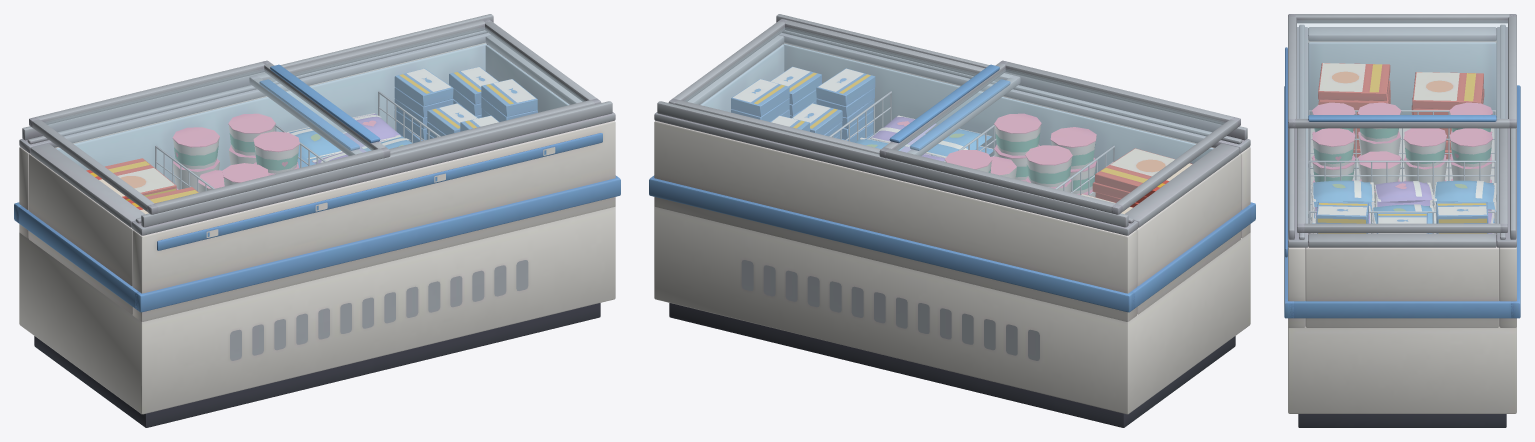
The model's file is g3-freezer-chest.glb.
The picture shows the model from 3 angles, left to right: view 1: azimuth 30°, elevation 25°; view 2: azimuth 150°, elevation 25°; view 3: azimuth 270°, elevation 25°; orthographic projection. The views are drawn at different scales.
Parts seen in each view (by area): view 1: freezer-chest_body, freezer-chest_lid_l_glass, freezer-chest_lid_r_glass, freezer-chest_lid_l, freezer-chest_lid_r; view 2: freezer-chest_body, freezer-chest_lid_l_glass, freezer-chest_lid_r_glass, freezer-chest_lid_l, freezer-chest_lid_r; view 3: freezer-chest_body, freezer-chest_lid_l_glass, freezer-chest_lid_r_glass, freezer-chest_lid_l, freezer-chest_lid_r.
Part boxes in pixels (bbox=[...]): freezer-chest_body: bbox=[14, 14, 620, 427]; freezer-chest_lid_l_glass: bbox=[44, 69, 374, 202]; freezer-chest_lid_r_glass: bbox=[271, 27, 585, 152]; freezer-chest_lid_l: bbox=[29, 60, 390, 214]; freezer-chest_lid_r: bbox=[249, 19, 601, 155]; freezer-chest_body: bbox=[649, 14, 1255, 427]; freezer-chest_lid_l_glass: bbox=[895, 69, 1225, 202]; freezer-chest_lid_r_glass: bbox=[684, 27, 998, 152]; freezer-chest_lid_l: bbox=[879, 60, 1240, 214]; freezer-chest_lid_r: bbox=[668, 19, 1020, 155]; freezer-chest_body: bbox=[1284, 24, 1520, 427]; freezer-chest_lid_l_glass: bbox=[1297, 20, 1507, 118]; freezer-chest_lid_r_glass: bbox=[1306, 128, 1498, 223]; freezer-chest_lid_l: bbox=[1288, 14, 1516, 128]; freezer-chest_lid_r: bbox=[1297, 118, 1507, 232].
Bounding box in the file's own units: 2.03 × 0.92 × 0.928.
Materials: 5 (3 with a texture image).
